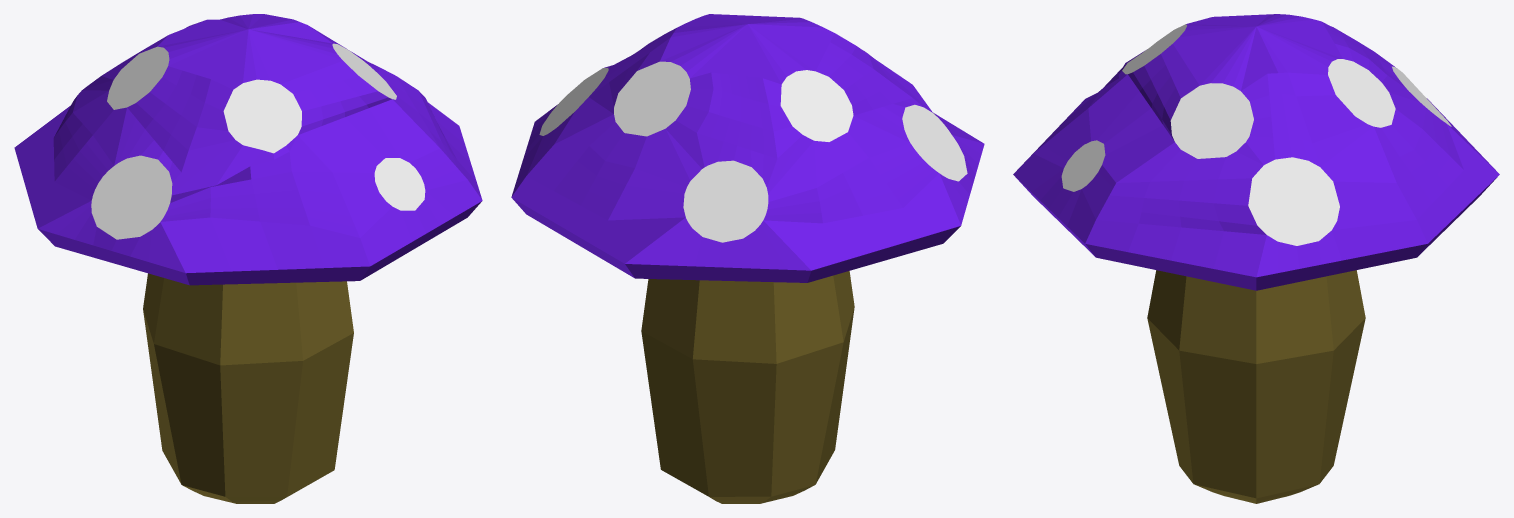
The model's file is Mushroom_Cursed_2_PS1.fbx.
3 renders of one model, left to right at view 1: azimuth 30°, elevation 25°; view 2: azimuth 150°, elevation 25°; view 3: azimuth 270°, elevation 25°, orthographic.
Visible parts, largest first — view 1: Mushroom_cursed; view 2: Mushroom_cursed; view 3: Mushroom_cursed.
Part boxes in pixels (left/top/right/bottom): Mushroom_cursed: left=14, top=14, right=482, bottom=503; Mushroom_cursed: left=511, top=14, right=984, bottom=503; Mushroom_cursed: left=1013, top=14, right=1499, bottom=503.
Bounding box in the file's own units: 154 × 165 × 154.
